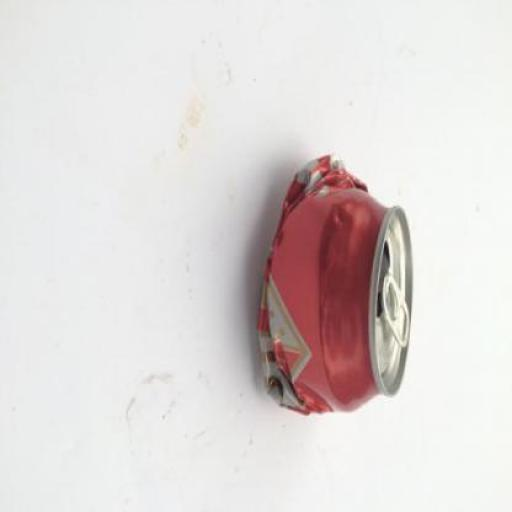metal: (256, 159, 414, 418)
